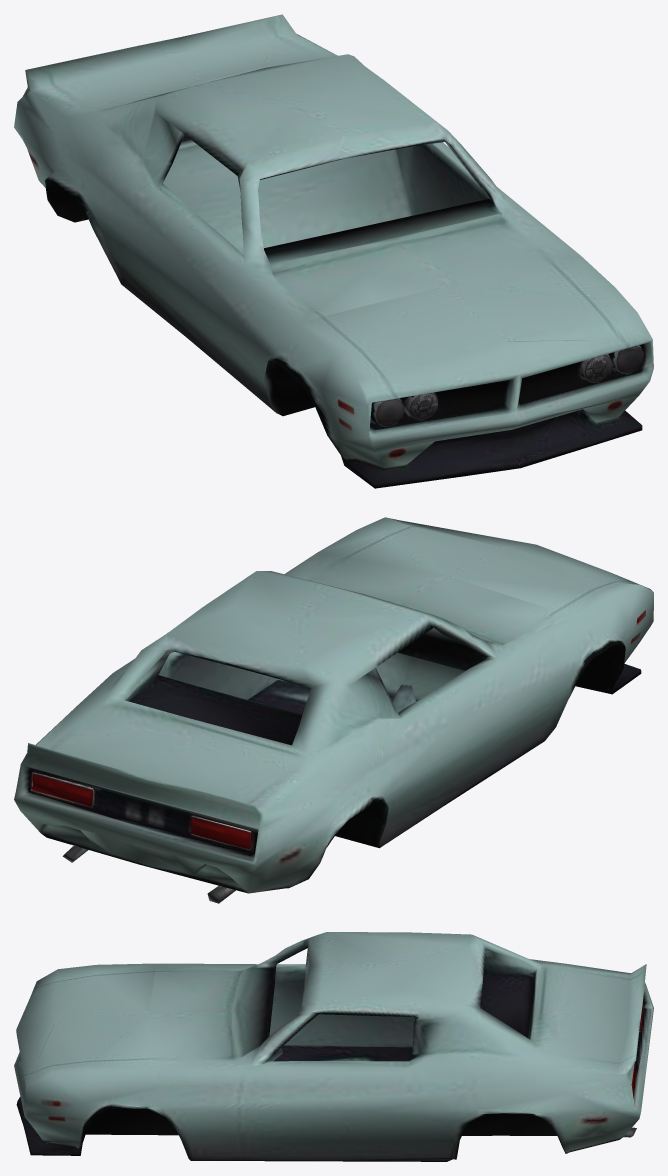
Rendered from muscle-chassis.glb.
3 views of the same model, one above another, from view 1: azimuth 30°, elevation 25°; view 2: azimuth 150°, elevation 25°; view 3: azimuth 270°, elevation 25° (orthographic). The views are drawn at different scales.
Parts seen in each view (by area): view 1: tripo_part_9, tripo_part_13, tripo_part_15, tripo_part_16, tripo_part_14; view 2: tripo_part_9, tripo_part_18, tripo_part_19; view 3: tripo_part_9.
Boxes of the visible parts, x1,y1,x2,y2 form: tripo_part_9: (14, 14, 653, 488); tripo_part_13: (370, 398, 403, 427); tripo_part_15: (403, 392, 437, 421); tripo_part_16: (579, 354, 613, 383); tripo_part_14: (611, 345, 643, 374); tripo_part_9: (14, 517, 653, 893); tripo_part_18: (30, 772, 100, 807); tripo_part_19: (191, 815, 250, 850); tripo_part_9: (14, 932, 653, 1161).
Bounding box in the file's own units: 0.4829 × 0.2616 × 1.
Materials: 9 (9 with a texture image).
